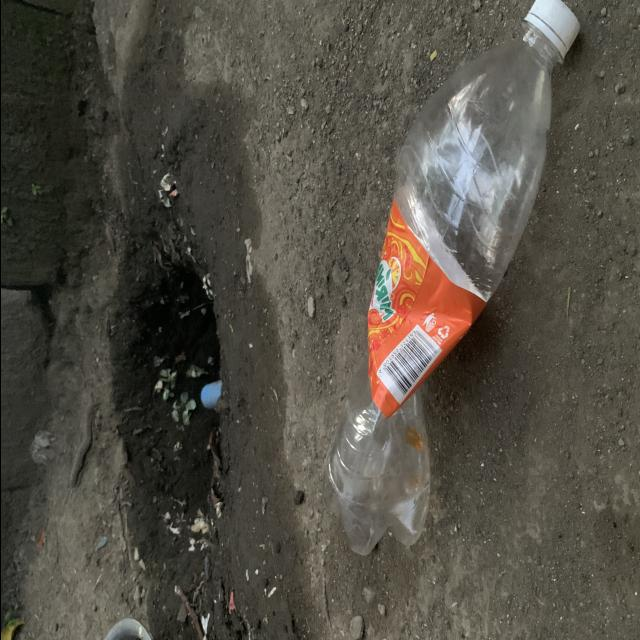Bottle: (324, 0, 578, 555)
